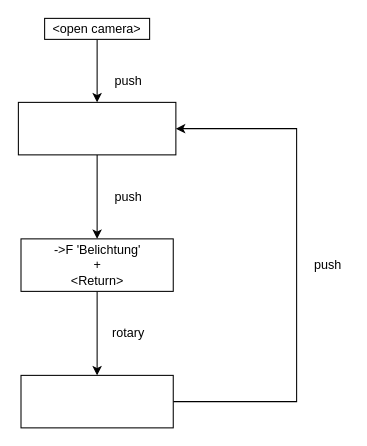
Image size: 367x446. Some labels were removed from this diagram. Each missing label, with the centre of its shape:
"->F + 'Kamerasteuerung'" belongs at [96,128].
"<left> / <right>" belongs at [96,401].
